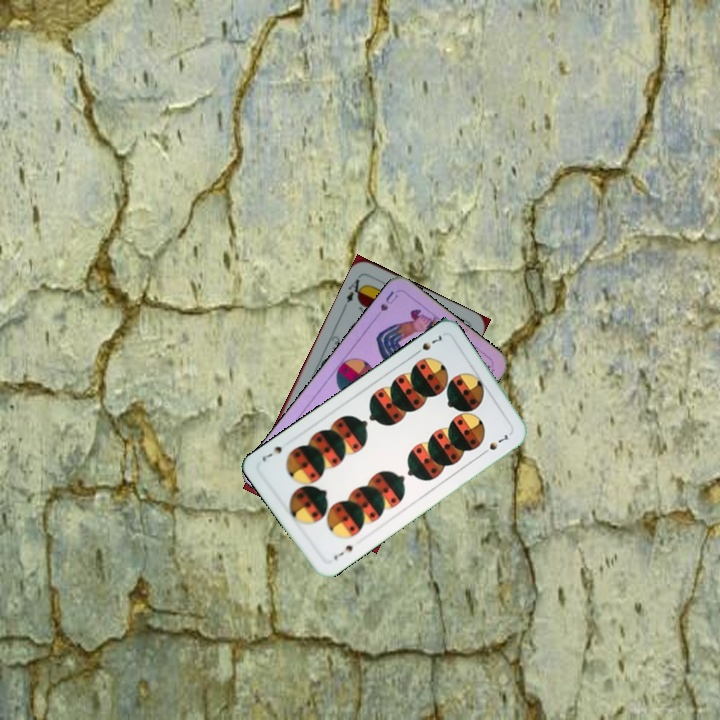EA: (342, 272, 367, 305)
S7: (410, 330, 447, 358), (330, 541, 357, 563)
SU: (376, 287, 401, 314)
